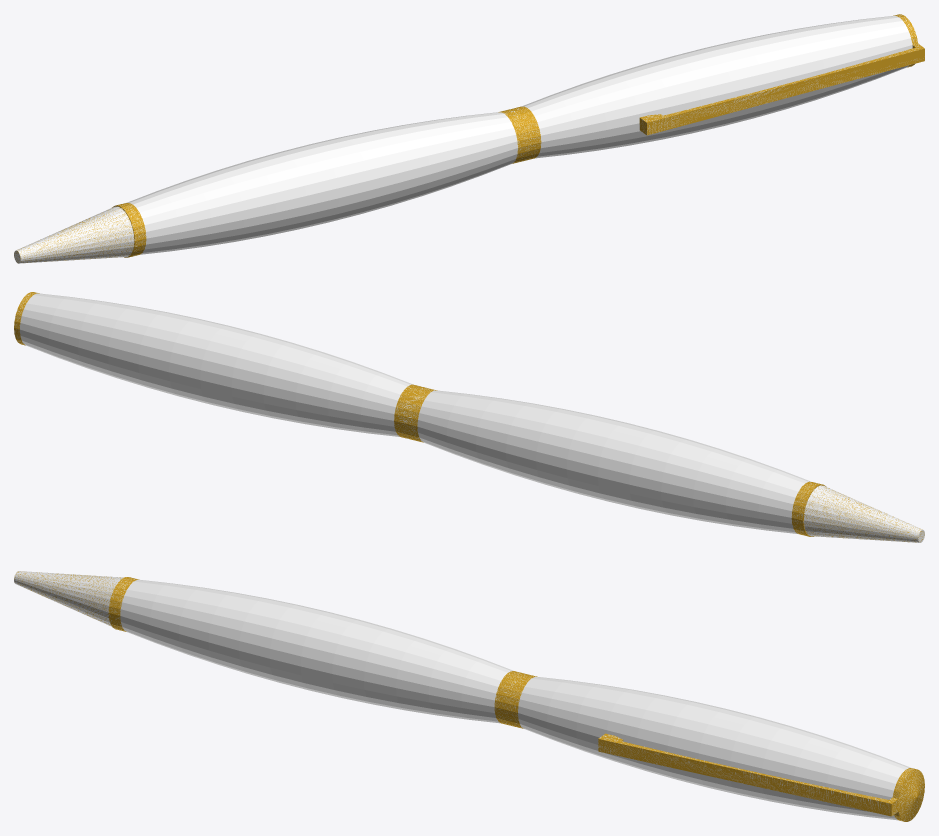
The picture shows the model from 3 angles, top to bottom: view 1: azimuth 30°, elevation 25°; view 2: azimuth 150°, elevation 25°; view 3: azimuth 330°, elevation 25°; orthographic projection.
Parts seen in each view (by area): view 1: wood pen; view 2: wood pen; view 3: wood pen.
Boxes of the visible parts, x1,y1,x2,y2 form: wood pen: (14, 14, 924, 263); wood pen: (14, 292, 924, 542); wood pen: (14, 571, 924, 821).
Size of the model in its own units: 4.81 by 0.375 by 0.4332.
